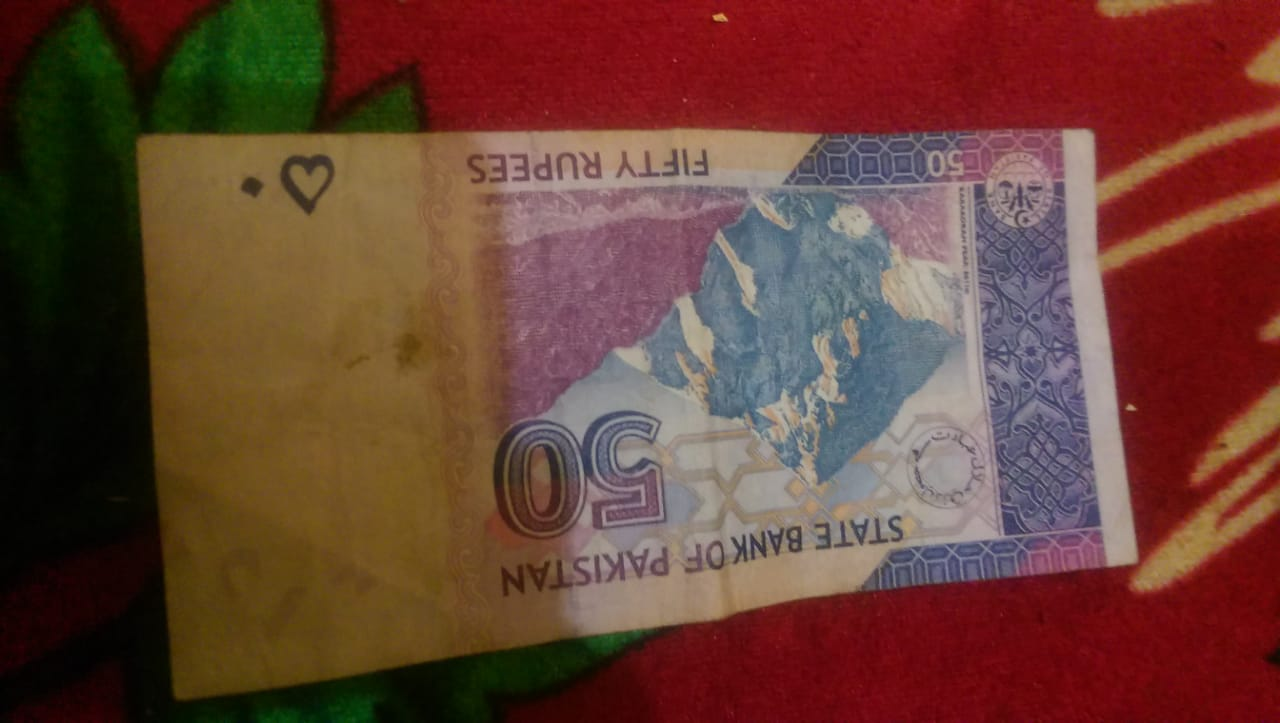50 rupee: (126, 118, 1167, 701)
